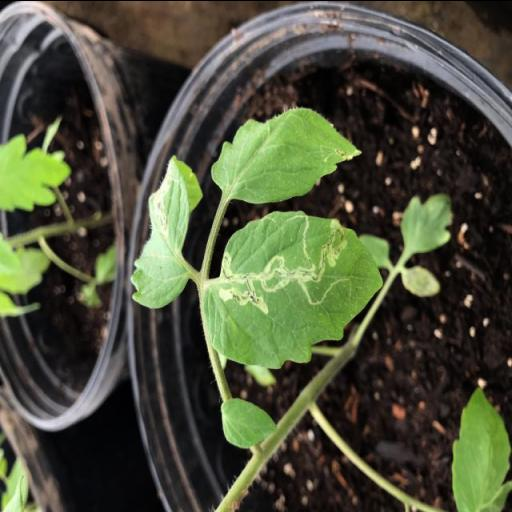Leaf Miner: (198, 210, 384, 372)
